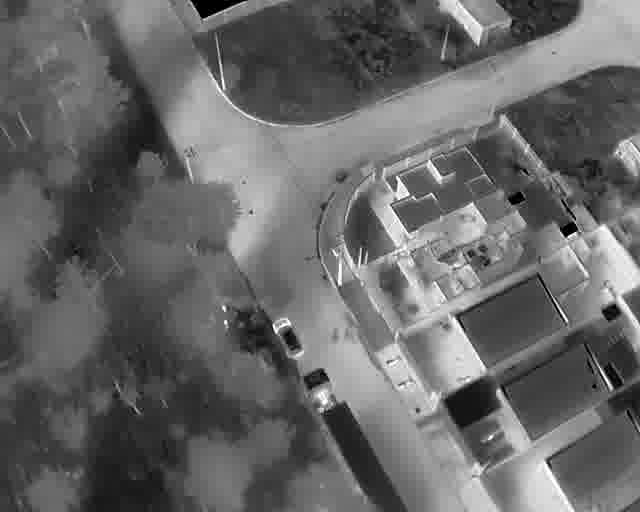car: (259, 287, 291, 329)
truck: (290, 335, 404, 491)
